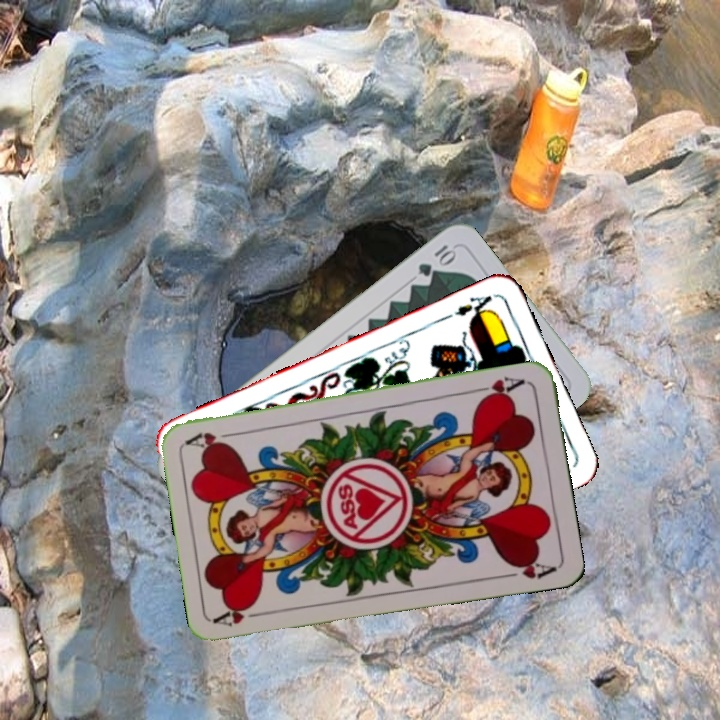EA: (451, 291, 495, 322)
G10: (413, 240, 459, 280)
HA: (470, 372, 528, 404), (212, 599, 271, 629)
